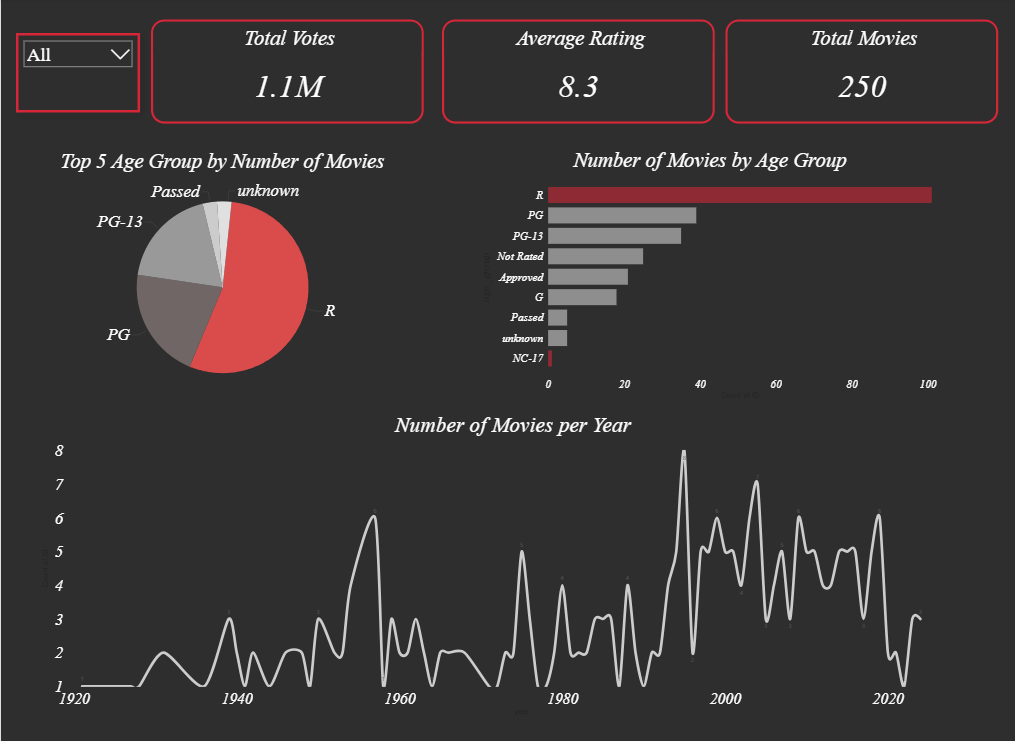

Layout of this report page (visuals, bound fields, positions):
{"tool":"powerbi","page":{"name":"Page 2","canvas":[1900,1400],"ordinal":0},"visuals":[{"type":"clusteredBarChart","title":"Number of Movies by Age Group","fields":{"Category":["Movie.age_group"],"Y":["CountNonNull(Movie.ID)"]},"box":[875.3,284.5,881.5,473.2],"z":0},{"type":"pieChart","title":"Top 5 Age Group by Number of Movies","fields":{"Y":["CountNonNull(Movie.ID)"],"Category":["Movie.age_group"]},"box":[3.1,284.5,822.7,473.2],"z":1000},{"type":"lineChart","title":"Number of Movies per Year","fields":{"Category":["Movie.year"],"Y":["CountNonNull(Movie.ID)"]},"box":[71.1,776.3,1775.3,572.2],"z":2000},{"type":"slicer","fields":{"Values":["Movie.year"]},"box":[27.8,68,232,148.5],"z":3000},{"type":"card","title":"Total Movies","fields":{"Values":["CountNonNull(Movie.ID)"]},"box":[1354.7,43.3,510.3,194.8],"z":4000},{"type":"card","title":"Average Rating","fields":{"Values":["Avg(Movie.Rate)"]},"box":[825.8,43.3,510.3,194.8],"z":5000},{"type":"card","title":"Total Votes","fields":{"Values":["Min(Movie.Votes)"]},"box":[281.4,43.3,510.3,194.8],"z":6000}]}

Visuals, with their boxes in screenshot pixels (x1, y1, x2, y2), scaled from the page's 1900x1400 canvas onto the 1015x741 screenshot:
"Number of Movies by Age Group" clusteredBarChart: x1=468 y1=151 x2=939 y2=401
"Top 5 Age Group by Number of Movies" pieChart: x1=2 y1=151 x2=441 y2=401
"Number of Movies per Year" lineChart: x1=38 y1=411 x2=986 y2=714
slicer - Movie.year: x1=15 y1=36 x2=139 y2=115
"Total Movies" card: x1=724 y1=23 x2=996 y2=126
"Average Rating" card: x1=441 y1=23 x2=714 y2=126
"Total Votes" card: x1=150 y1=23 x2=423 y2=126
